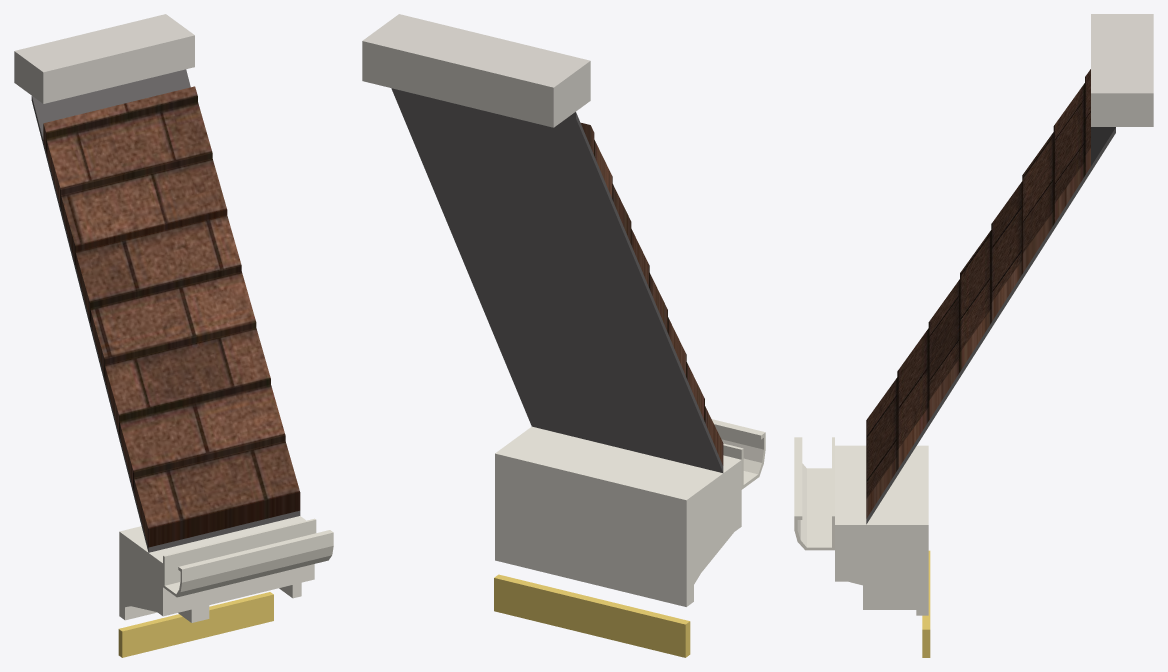
File: mans_tl.glb
3 renders of one model, left to right at view 1: azimuth 30°, elevation 25°; view 2: azimuth 150°, elevation 25°; view 3: azimuth 270°, elevation 25°, orthographic. The views are drawn at different scales.
Visible parts, largest first — view 1: mans_tl_shingles, mans_tl_cill, mans_tl_trim, mans_tl_gutter, mans_tl_dark, mans_tl_accent; view 2: mans_tl_dark, mans_tl_trim, mans_tl_cill, mans_tl_accent, mans_tl_shingles, mans_tl_gutter; view 3: mans_tl_shingles, mans_tl_trim, mans_tl_cill, mans_tl_gutter, mans_tl_dark, mans_tl_accent.
Part boxes in pixels (x1,y1,x2,y2): mans_tl_shingles: (43,86,300,547); mans_tl_cill: (14,14,194,103); mans_tl_trim: (119,516,314,622); mans_tl_gutter: (163,518,333,597); mans_tl_dark: (31,69,300,552); mans_tl_accent: (118,592,273,657); mans_tl_dark: (391,88,723,472); mans_tl_trim: (495,426,741,606); mans_tl_cill: (362,14,590,127); mans_tl_accent: (494,574,690,657); mans_tl_shingles: (581,123,723,465); mans_tl_gutter: (711,419,765,489); mans_tl_shingles: (866,69,1090,518); mans_tl_trim: (835,445,928,615); mans_tl_cill: (1091,14,1153,126); mans_tl_gutter: (794,437,834,550); mans_tl_dark: (866,127,1115,524); mans_tl_accent: (922,550,930,657).
Bounding box in the file's own units: 0.6 × 2 × 1.15.
6 materials, 1 textured.
